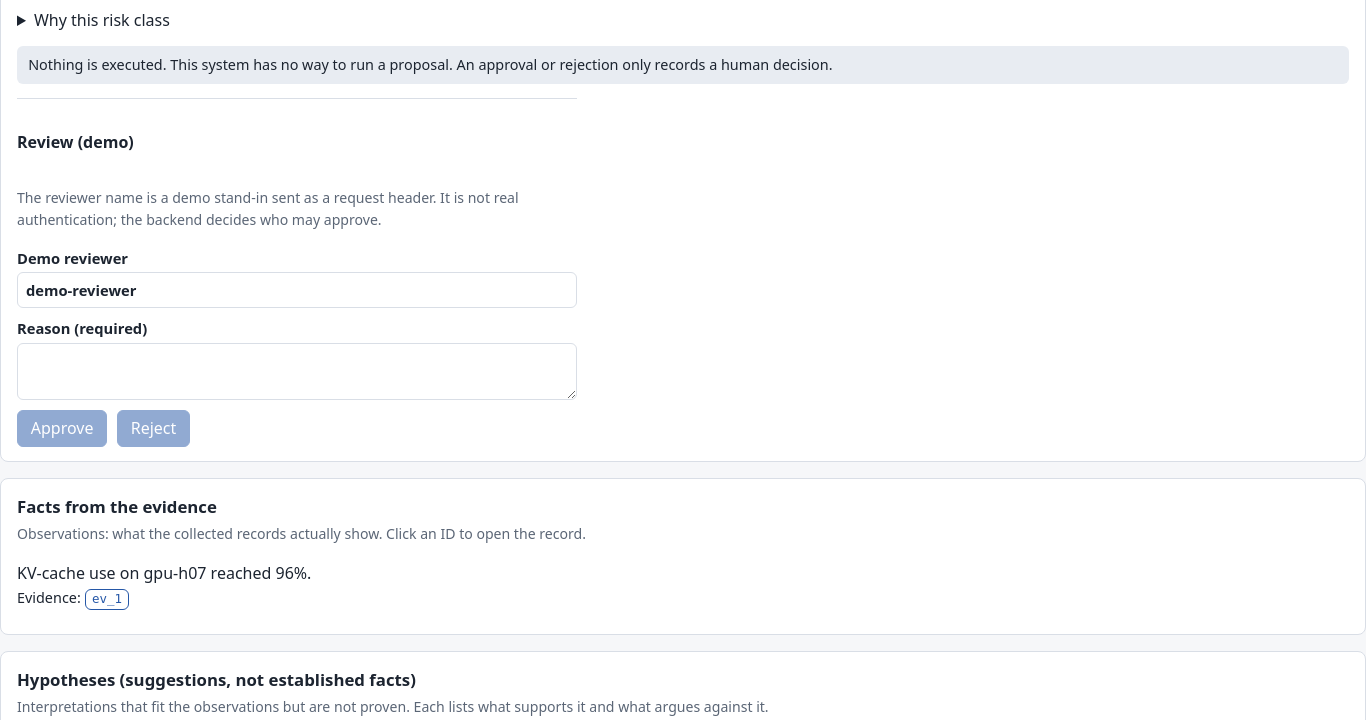
Test: RunPage: proposal and approval › sends the proposal hash and demo reviewer, then shows the state the backend now holds
The image size is (1366, 720).
(page scrolled)
In the text box labelled "Reason (required)": (297, 371) top-left (17, 343), bottom-right (577, 400), type "Safe on one host."
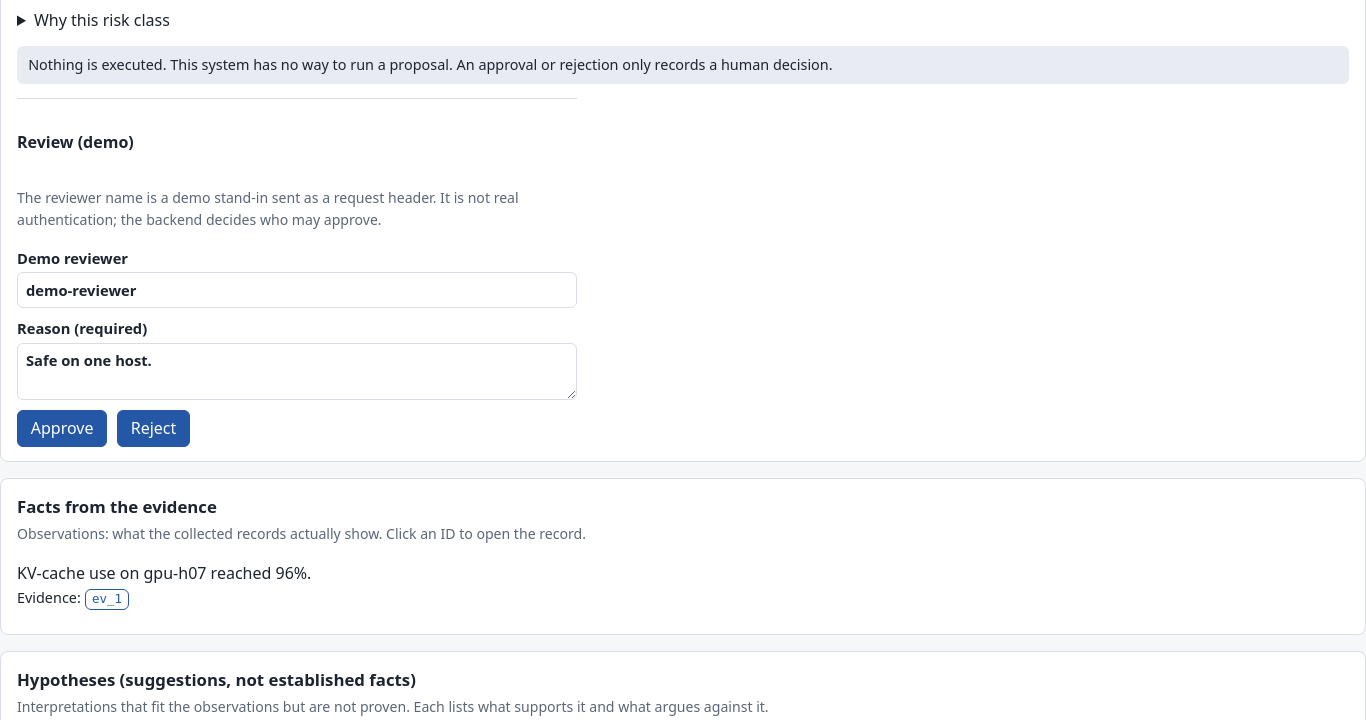
Click the button "Approve": (62, 428) top-left (17, 410), bottom-right (107, 447)
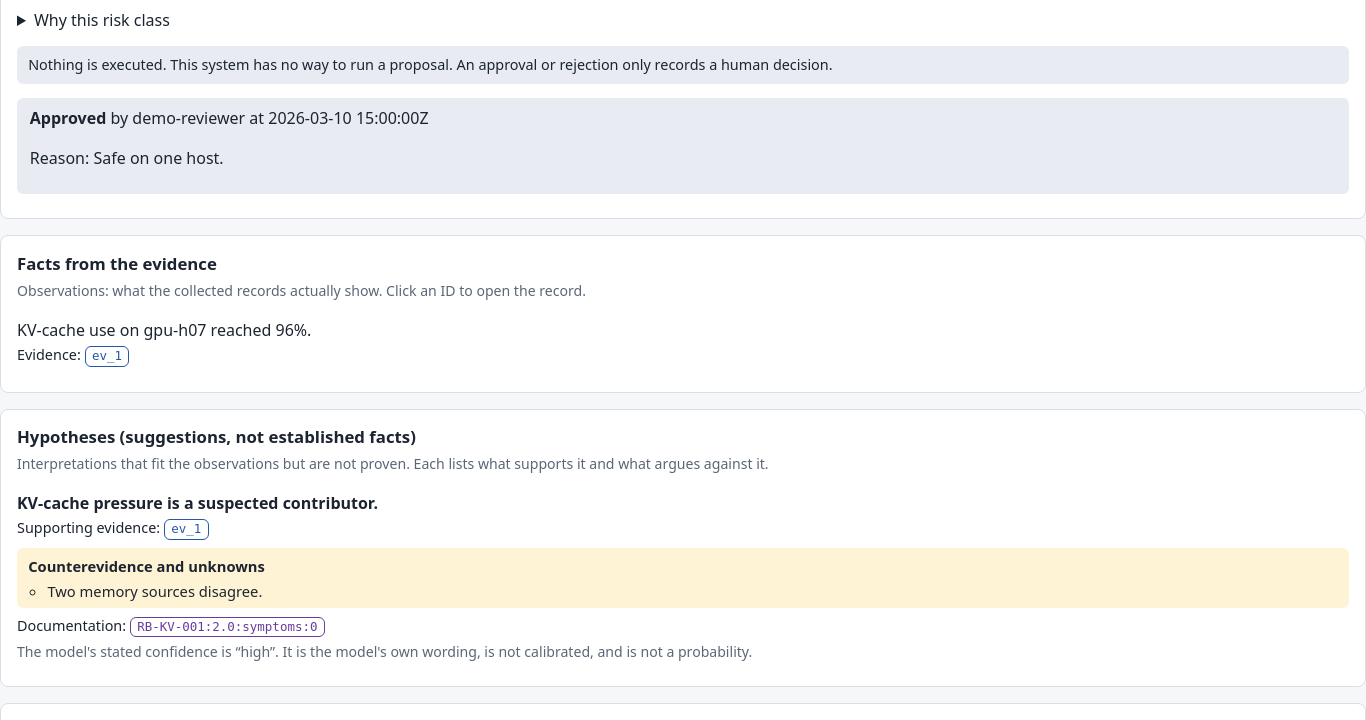
Now the element named "Recorded decision" shows "Approved by demo-reviewer", box top-left (17, 98), bottom-right (1349, 194)
Now the text "Reason: Safe on one host." is shown, box top-left (30, 147), bottom-right (224, 169)
